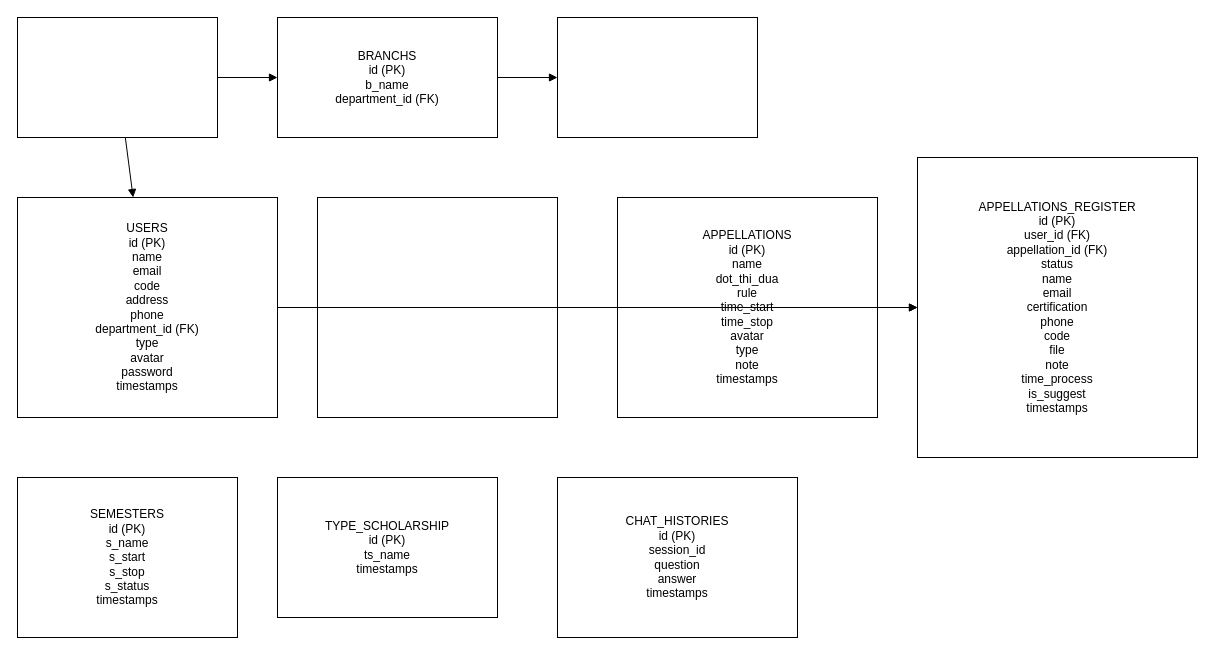
This 1215x655 diagram has some shape labels left out. The centre of each missing label's shape, as x and y in pixels:
ADMINS id (PK) name email password phone address level status avatar timestamps: the point at 437,307
CLASS id (PK) c_name branch_id (FK): the point at 657,77
DEPARTMENTS id (PK) d_name d_code: the point at 117,77
